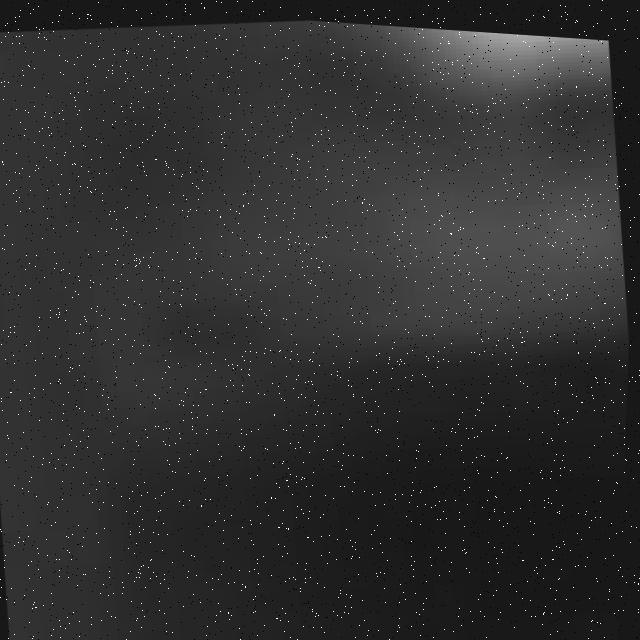person: (279, 16, 614, 116)
